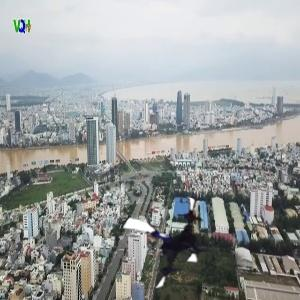drone: (111, 189, 218, 296)
